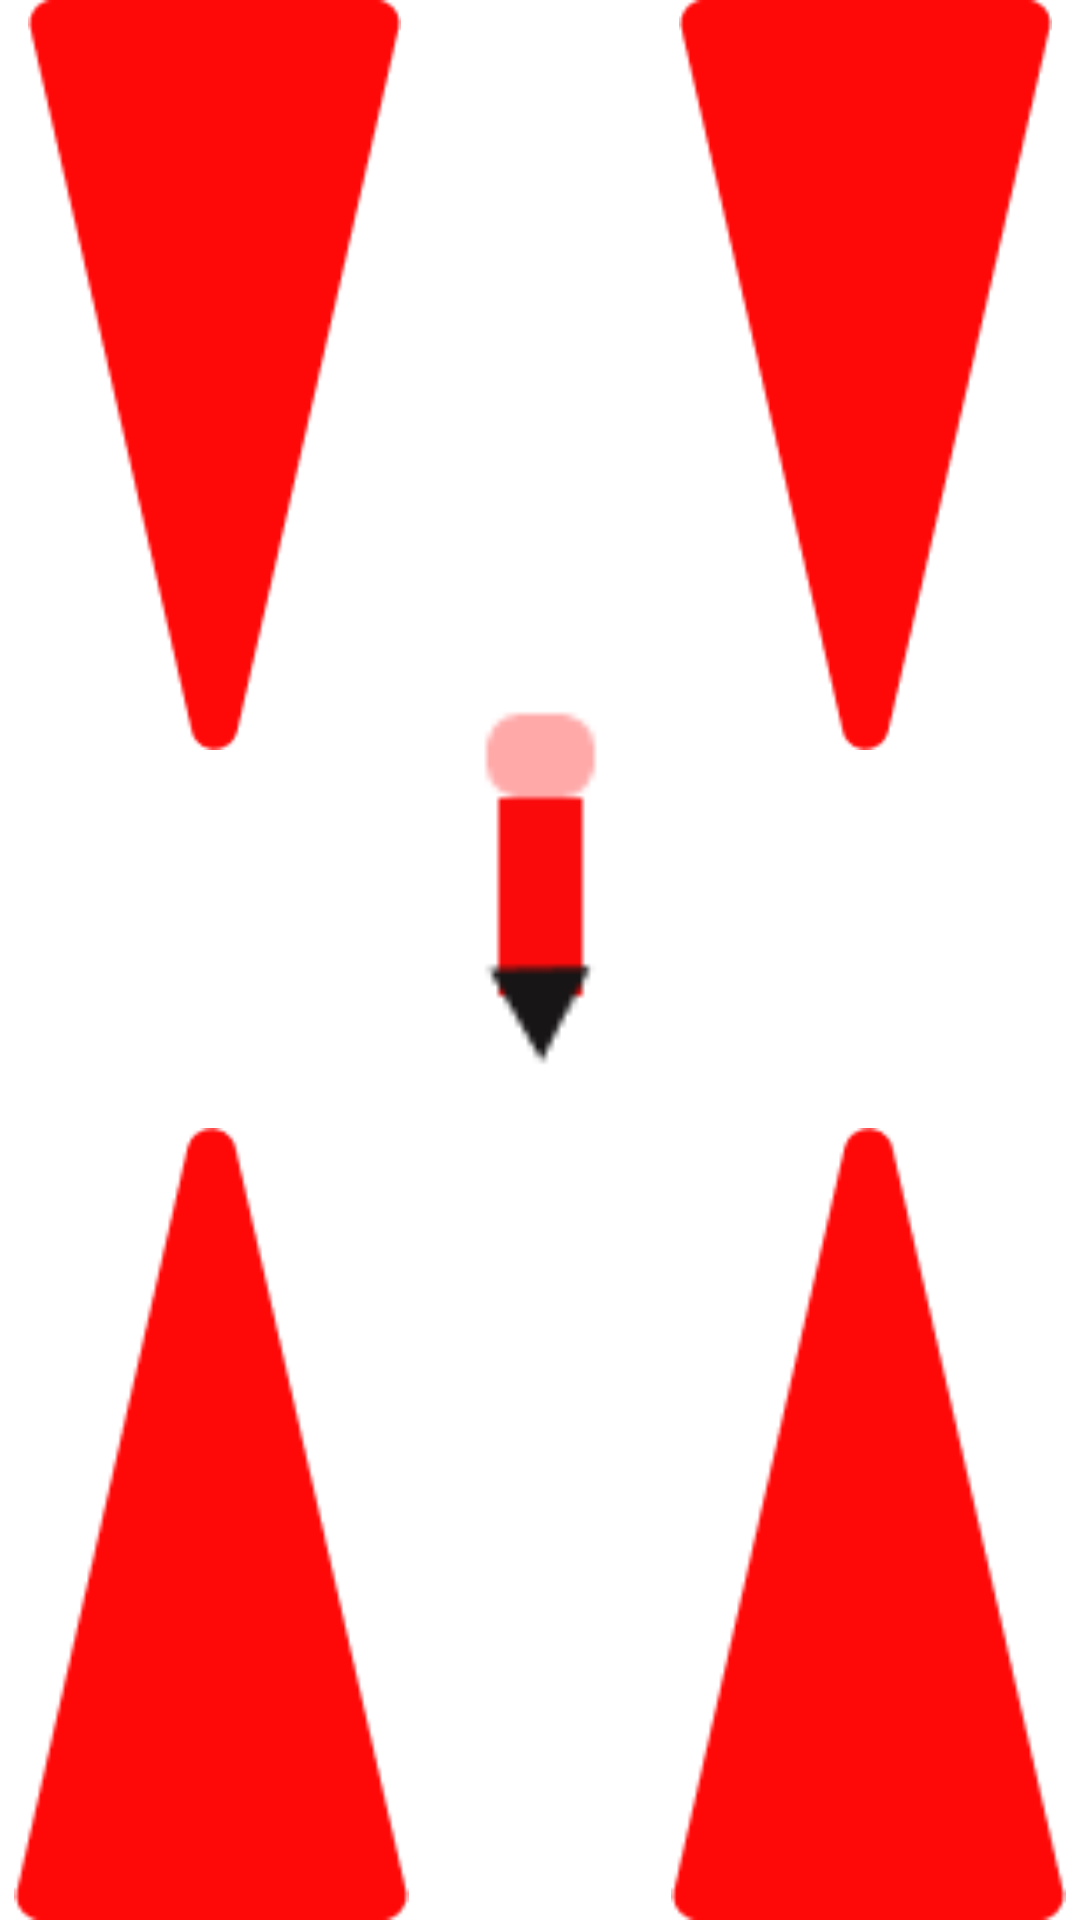

Named icons in this screenshot (1080 x 1920) and their centers, [x,y]:
pen: [540,888]
